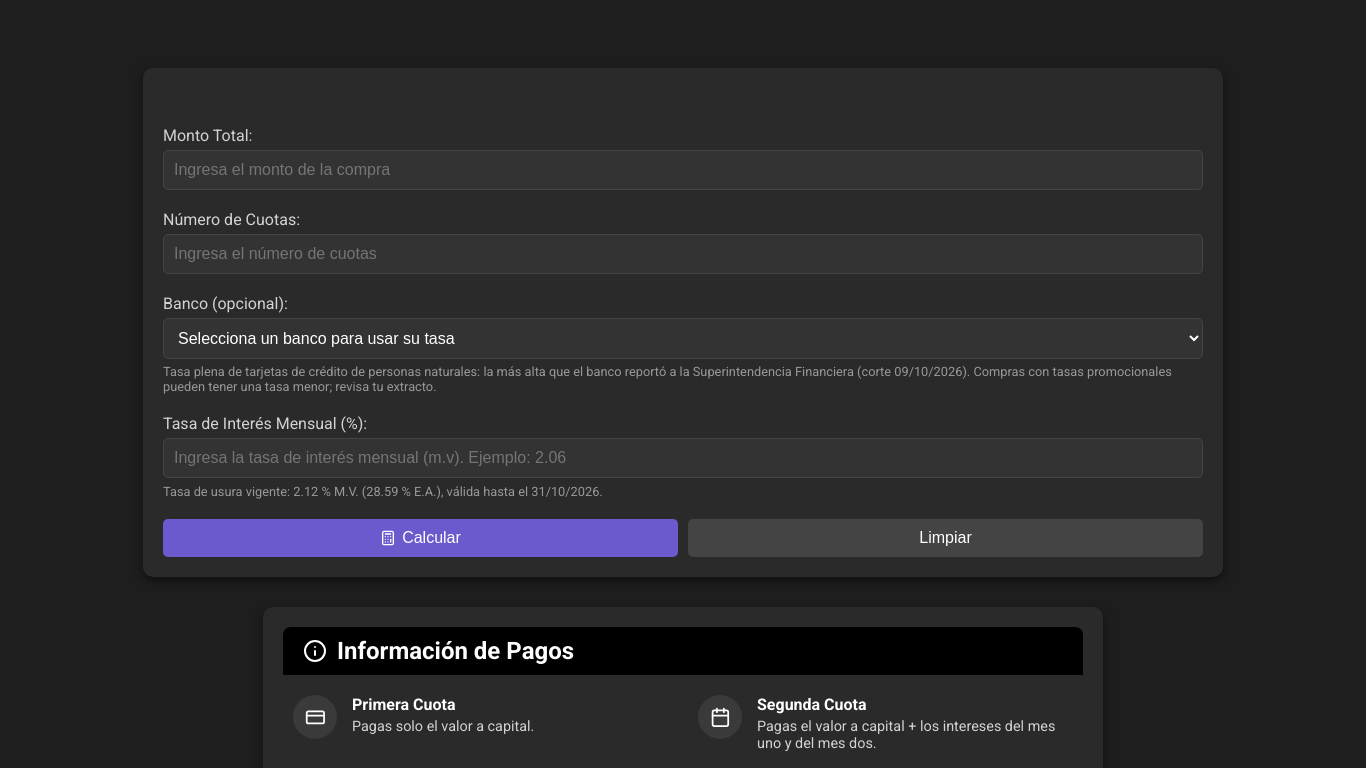
Scenario: limpiar borra el formulario y el plan
Expected: the text "Tasa de usura vigente" is shown, [163,484,603,499]
Step 1. Type "600000" into the field labelled "Monto Total:" → (683, 170), box [163,150,1203,190]
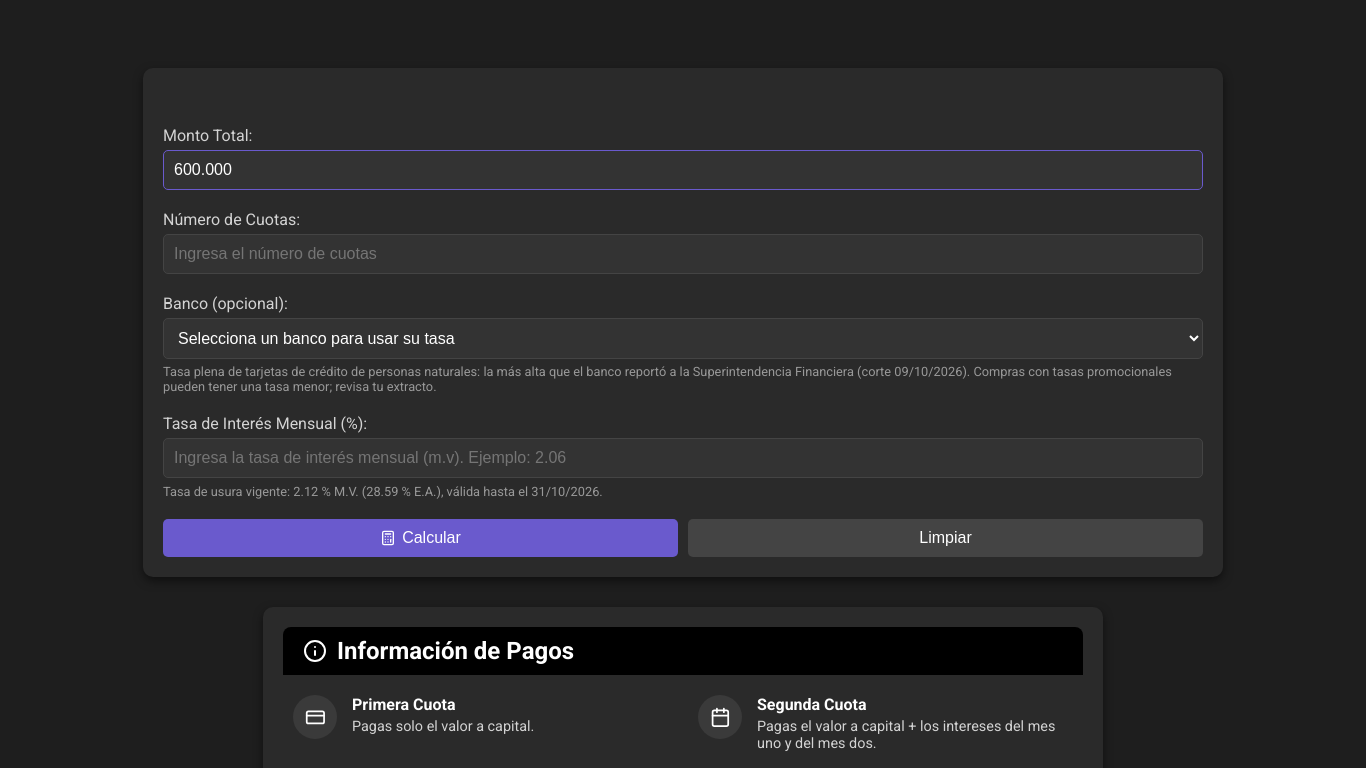
Step 2. Type "6" into the number field labelled "Número de Cuotas:" → (683, 254), box [163,234,1203,274]
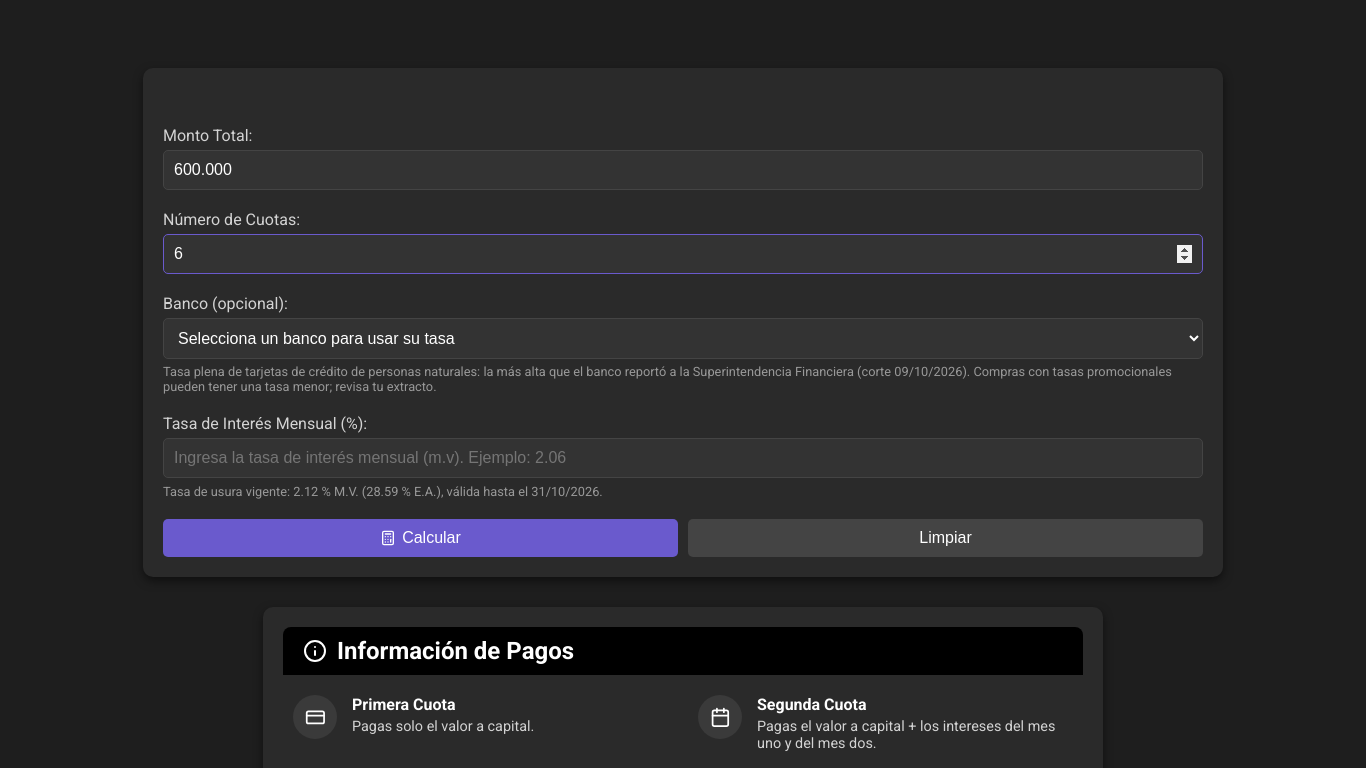
Step 3. Type "2" into the number field labelled "Tasa de Interés Mensual (%):" → (683, 458), box [163,438,1203,478]
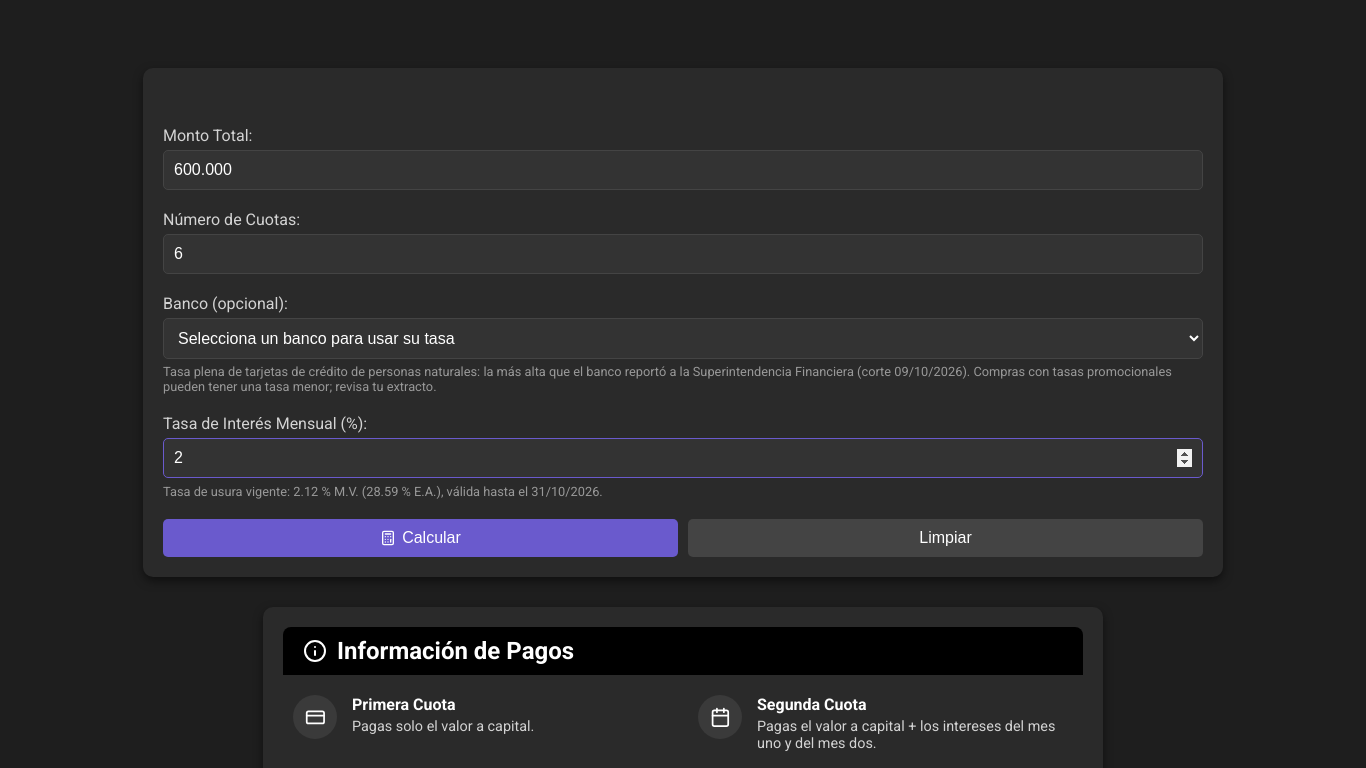
Step 4. Click the button "Calcular" → (420, 538), box [163,519,678,557]
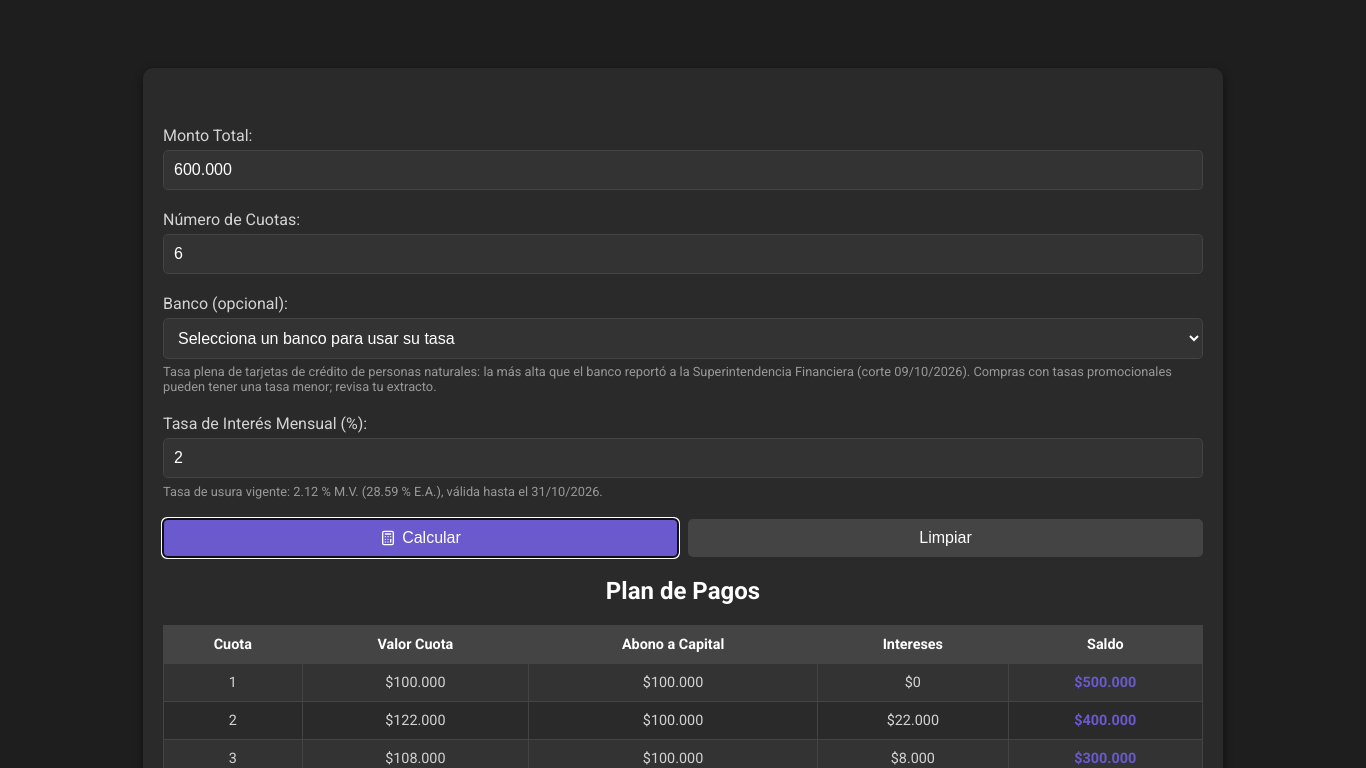
Step 5. Click the button "Limpiar" → (946, 538), box [688,519,1203,557]
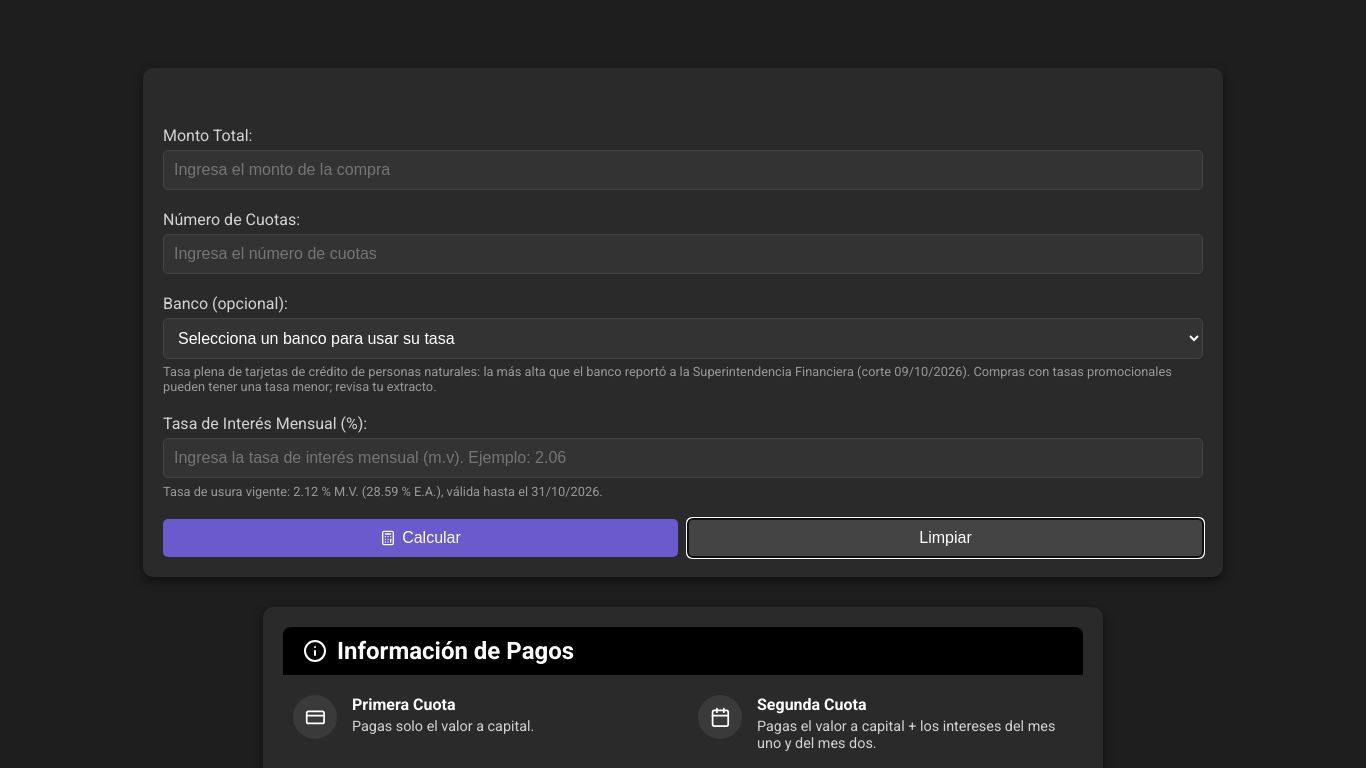
Result: the field labelled "Monto Total:" is empty at [163,150,1203,190]
Result: the heading "Plan de Pagos" is gone
